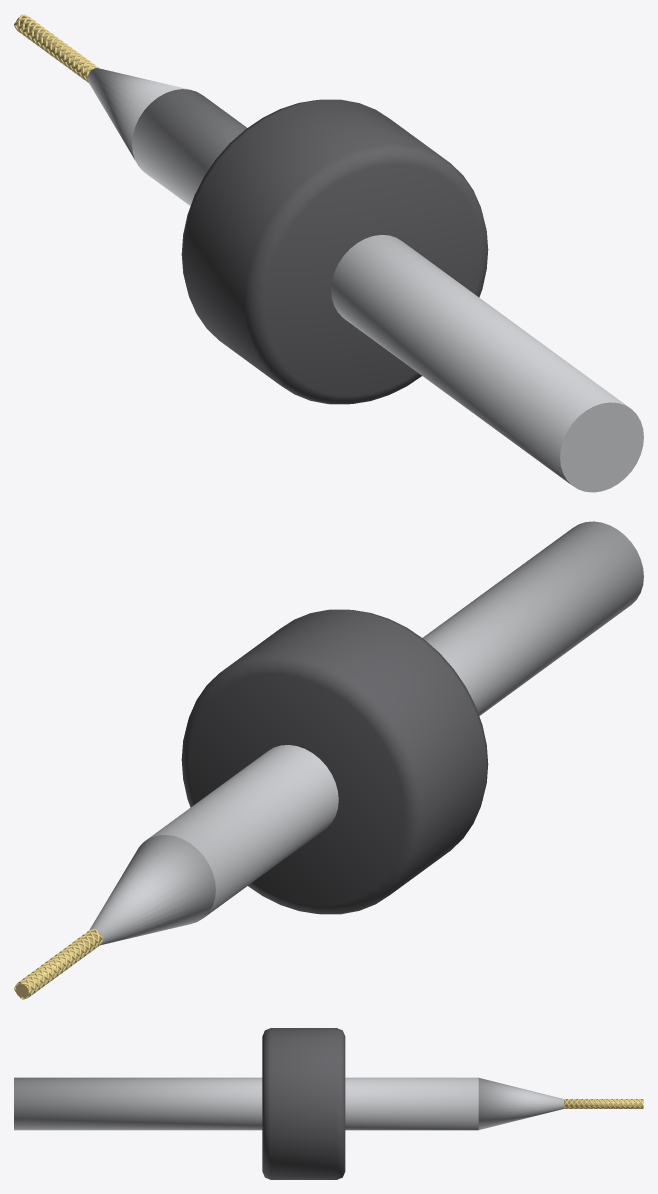
Rendered from corn18_0p6.glb.
3 renders of one model, top to bottom at view 1: azimuth 30°, elevation 25°; view 2: azimuth 150°, elevation 25°; view 3: azimuth 270°, elevation 25°, orthographic. The views are drawn at different scales.
Visible parts, largest first — view 1: Cylinder.002, Cylinder.001, Cone; view 2: Cylinder.002, Cylinder.001, Cone, Cylinder; view 3: Cylinder.001, Cylinder.002, Cone, Cylinder.
Boxes of the visible parts, box(x1,y1,x2,y2) form: Cylinder.002: box(181, 99, 488, 404); Cylinder.001: box(132, 89, 643, 492); Cone: box(87, 68, 188, 159); Cylinder.002: box(181, 609, 488, 914); Cylinder.001: box(145, 521, 643, 917); Cone: box(89, 834, 215, 945); Cylinder: box(15, 931, 101, 997); Cylinder.001: box(14, 1077, 478, 1130); Cylinder.002: box(262, 1028, 345, 1179); Cone: box(478, 1078, 563, 1129); Cylinder: box(564, 1099, 643, 1108).
Bounding box in the file's own units: 0.00917 × 0.00917 × 0.038.
